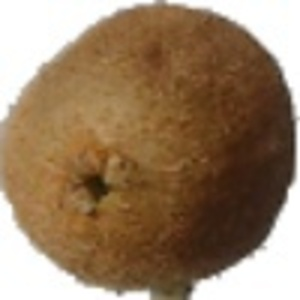kiwi: (1, 1, 300, 300)
